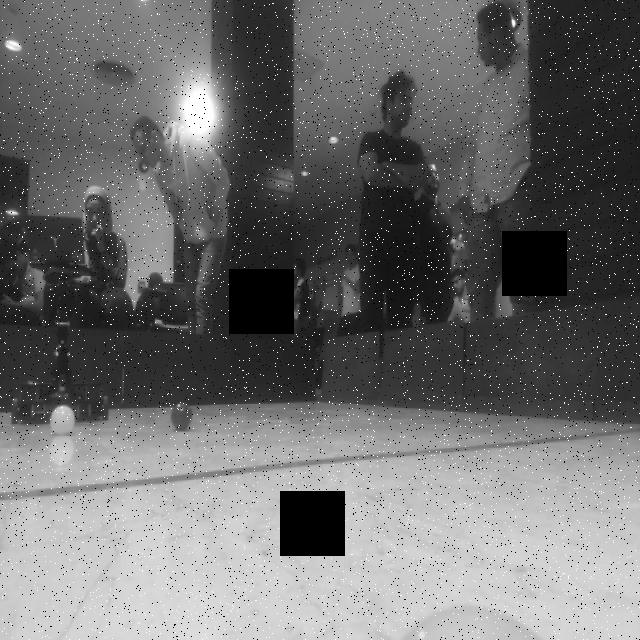ball: (50, 404, 75, 439), (168, 399, 195, 431)
